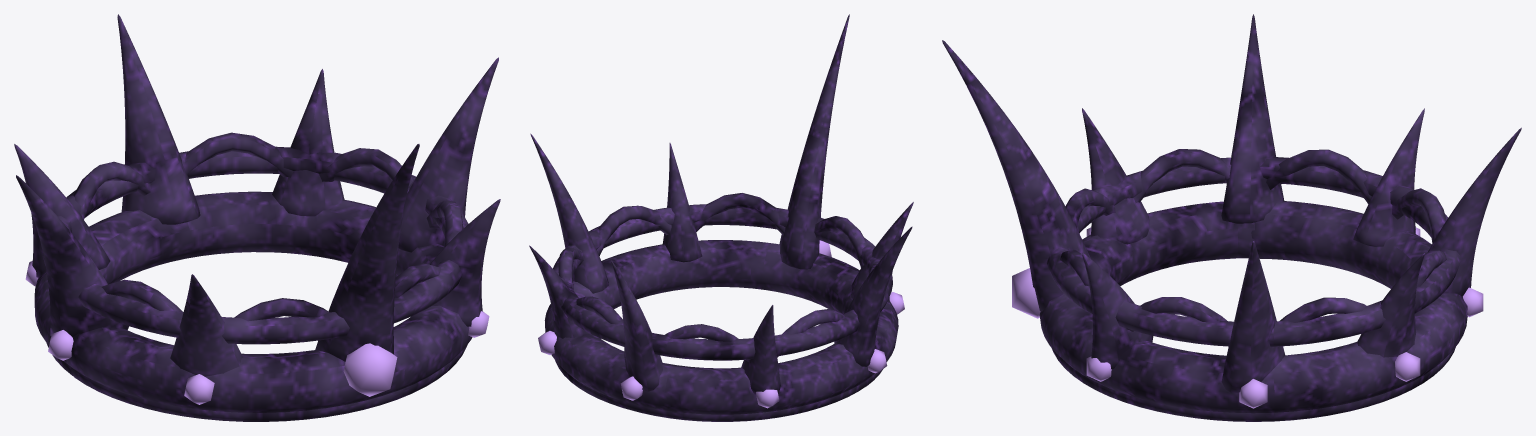
The model's file is monarca_coroa.fbx.
The picture shows the model from 3 angles, left to right: view 1: azimuth 30°, elevation 25°; view 2: azimuth 150°, elevation 25°; view 3: azimuth 270°, elevation 25°; orthographic projection. The views are drawn at different scales.
Visible parts, largest first — view 1: monarca_coroa, monarca_coroa_Brilho; view 2: monarca_coroa, monarca_coroa_Brilho; view 3: monarca_coroa, monarca_coroa_Brilho.
Boxes of the visible parts, box(x1,y1,x2,y2) form: monarca_coroa: box(14, 14, 500, 421); monarca_coroa_Brilho: box(25, 261, 489, 404); monarca_coroa: box(529, 14, 913, 421); monarca_coroa_Brilho: box(538, 240, 904, 408); monarca_coroa: box(942, 14, 1521, 421); monarca_coroa_Brilho: box(1012, 227, 1483, 408).
Size of the model in its own units: 1.79 by 1.1 by 1.93.
Materials: 2 (1 with a texture image).
